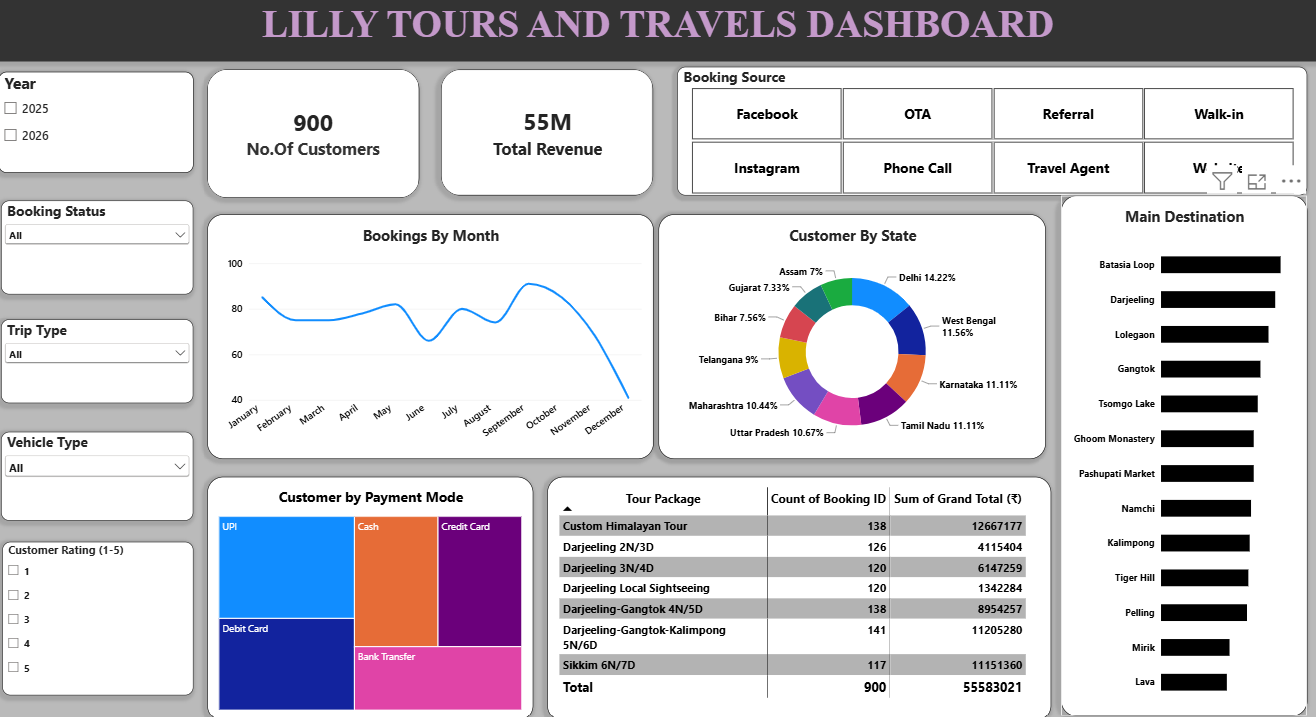

The page's visual inventory and layout, read from the dashboard file:
{"tool":"powerbi","page":{"name":"Page 1","canvas":[1920,1080],"ordinal":0},"visuals":[{"type":"textbox","box":[10.9,0,1909.2,106.8],"z":0},{"type":"cardVisual","fields":{"Data":["CountNonNull(Sheet1.Customer ID)"]},"box":[313.1,117.6,307.5,186.8],"z":1},{"type":"cardVisual","fields":{"Data":["Sum(Sheet1.Package Amount (₹))"]},"box":[651.5,117.6,307.5,183],"z":2},{"type":"slicer","fields":{"Values":["Sheet1.Booking Source"]},"box":[993.5,114,912.1,186.4],"z":3},{"type":"slicer","fields":{"Values":["Sheet1.Customer Rating (1-5)"]},"box":[16.3,801.7,276.9,222.6],"z":4},{"type":"slicer","fields":{"Values":["Sheet1.Booking Status"]},"box":[14.5,307.6,278.7,135.7],"z":5},{"type":"slicer","fields":{"Values":["Sheet1.Trip Type"]},"box":[14.5,479.6,278.7,121.2],"z":6},{"type":"slicer","fields":{"Values":["Sheet1.Vehicle Type"]},"box":[14.5,642.4,278.7,128.5],"z":7},{"type":"lineChart","title":"Bookings By Month","fields":{"Category":["Sheet1.Booking Date.Variation.Date Hierarchy.Month"],"Y":["CountNonNull(Sheet1.Booking ID)"]},"box":[313.1,327.5,646,354.7],"z":9},{"type":"slicer","fields":{"Values":["Sheet1.Booking Date.Variation.Date Hierarchy.Year"]},"box":[10.9,121.2,282.3,146.6],"z":10},{"type":"donutChart","title":"Customer By State","fields":{"Category":["Sheet1.Home State"],"Y":["CountNonNull(Sheet1.Customer ID)"]},"box":[966.4,327.5,561,354.7],"z":11},{"type":"barChart","title":"Main Destination","fields":{"Category":["Sheet1.Main Destination"],"Y":["CountNonNull(Sheet1.Customer ID)"]},"box":[1549.1,300.4,356.5,754.6],"z":12},{"type":"tableEx","fields":{"Values":["Sheet1.Tour Package","CountNonNull(Sheet1.Booking ID)","Sum(Sheet1.Grand Total (₹))"]},"box":[805.3,707.6,729.3,354.7],"z":13},{"type":"treemap","title":"Customer by  Payment Mode","fields":{"Group":["Sheet1.Payment Mode"],"Values":["CountNonNull(Sheet1.Payment Mode)"]},"box":[313.1,707.6,472.3,354.7],"z":14}]}

Visuals, with their boxes in screenshot pixels (x1, y1, x2, y2):
textbox: select_region(11, 0, 1305, 62)
cardVisual - CountNonNull(Sheet1.Customer ID): select_region(216, 69, 424, 196)
cardVisual - Sum(Sheet1.Package Amount (₹)): select_region(445, 69, 654, 194)
slicer - Sheet1.Booking Source: select_region(677, 67, 1296, 193)
slicer - Sheet1.Customer Rating (1-5): select_region(14, 533, 202, 684)
slicer - Sheet1.Booking Status: select_region(13, 198, 202, 290)
slicer - Sheet1.Trip Type: select_region(13, 315, 202, 397)
slicer - Sheet1.Vehicle Type: select_region(13, 425, 202, 512)
"Bookings By Month" lineChart: select_region(216, 212, 654, 452)
slicer - Sheet1.Booking Date.Variation.Date Hierarchy.Year: select_region(11, 72, 202, 171)
"Customer By State" donutChart: select_region(659, 212, 1039, 452)
"Main Destination" barChart: select_region(1054, 193, 1296, 705)
tableEx - Sheet1.Tour Package x CountNonNull(Sheet1.Booking ID): select_region(549, 470, 1044, 710)
"Customer by  Payment Mode" treemap: select_region(216, 470, 536, 710)
